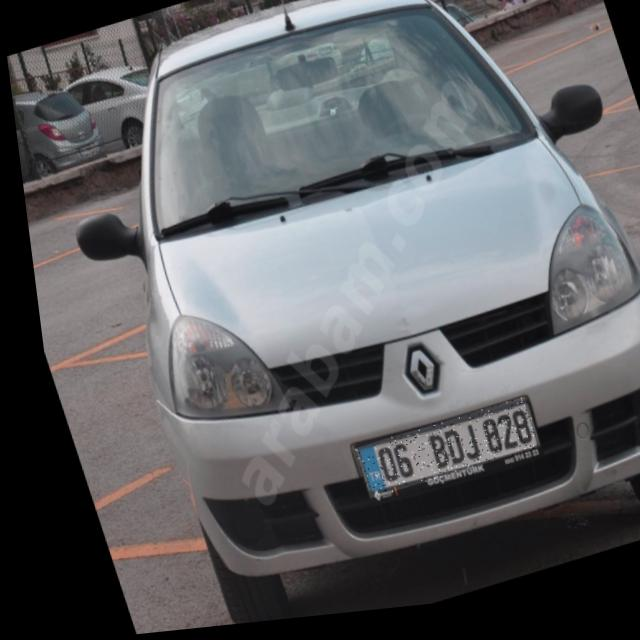license_plate: (338, 406, 532, 506)
